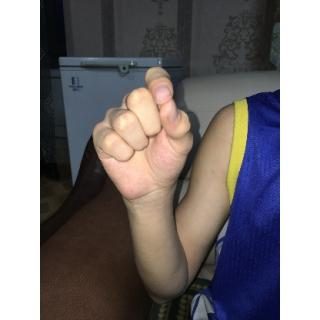FAA: (86, 62, 199, 204)
